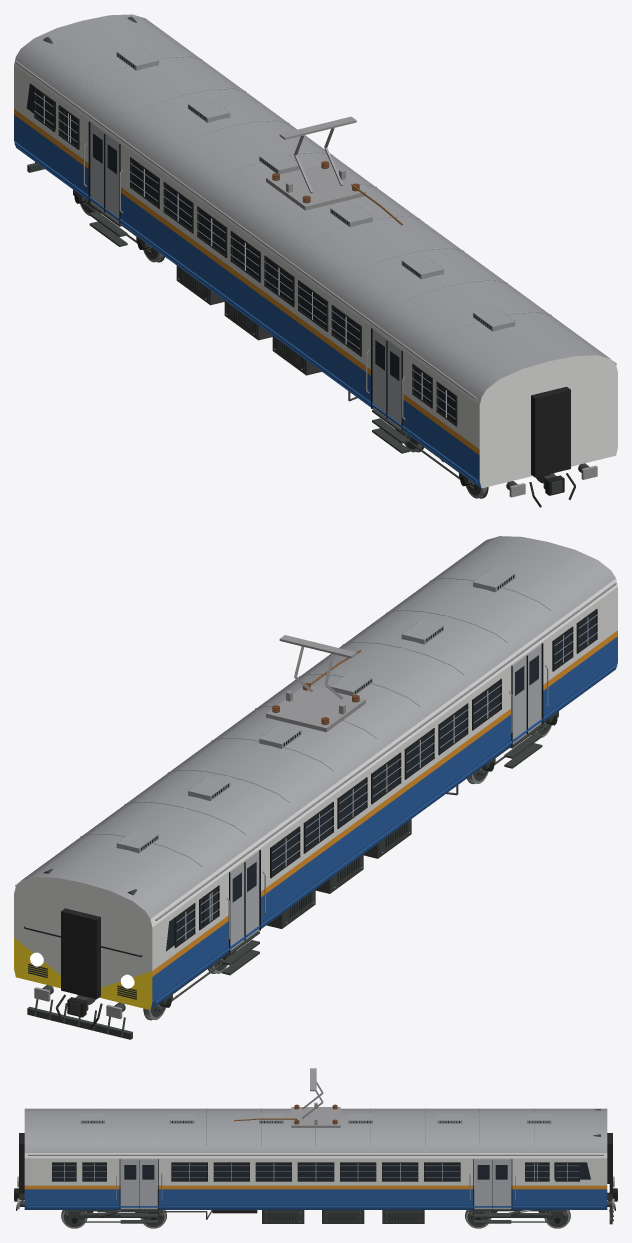
Rendered from memu.glb.
3 views of the same model, one above another, from view 1: azimuth 30°, elevation 25°; view 2: azimuth 150°, elevation 25°; view 3: azimuth 270°, elevation 25° (orthographic). The views are drawn at different scales.
Visible parts, largest first — view 1: CabCar_Body, CabCar_Panels, CabCar_RoofKit, MotorCar_Pantograph, CabCar_GangwayB, MotorCar_Body, CabCar_ExteriorDetails_Rubber, CabCar_ExteriorDetails_Roof, CabCar_ExteriorDetails_Frame, CabCar_ExteriorDetails_Blue, CabCar_UnderfloorDetails_Frame, CabCar_ExteriorDetails_Steel (+2 smaller); view 2: CabCar_Body, MotorCar_Body, CabCar_Panels, CabCar_RoofKit, MotorCar_Pantograph, MotorCar_GangwayF, CabCar_ExteriorDetails_Rubber, CabCar_ExteriorDetails_Roof, CabCar_ExteriorDetails_Frame, CabCar_ExteriorDetails_Blue, CabCar_UnderfloorDetails_Frame, CabCar_ExteriorDetails_Steel (+3 smaller); view 3: CabCar_Body, CabCar_Panels, CabCar_UnderfloorDetails_Frame, CabCar_ExteriorDetails_Rubber, CabCar_RoofKit, MotorCar_Body, CabCar_ExteriorDetails_Roof, CabCar_ExteriorDetails_Steel, MotorCar_Pantograph, CabCar_ExteriorDetails_Blue, CabCar_ExteriorDetails_Frame, CabCar_UnderfloorDetails_Under (+6 smaller).
Boxes of the visible parts, bbox=[...] form: CabCar_Body: bbox=[14, 21, 617, 488]; CabCar_Panels: bbox=[26, 83, 455, 429]; CabCar_RoofKit: bbox=[116, 46, 515, 331]; MotorCar_Pantograph: bbox=[266, 116, 365, 210]; CabCar_GangwayB: bbox=[531, 386, 570, 477]; MotorCar_Body: bbox=[14, 14, 173, 106]; CabCar_ExteriorDetails_Rubber: bbox=[62, 108, 457, 426]; CabCar_ExteriorDetails_Roof: bbox=[15, 56, 616, 399]; CabCar_ExteriorDetails_Frame: bbox=[27, 17, 409, 453]; CabCar_ExteriorDetails_Blue: bbox=[14, 142, 476, 482]; CabCar_UnderfloorDetails_Frame: bbox=[177, 266, 589, 494]; CabCar_ExteriorDetails_Steel: bbox=[62, 113, 455, 419]; CabCar_Body: bbox=[14, 536, 617, 1009]; MotorCar_Body: bbox=[14, 854, 182, 987]; CabCar_Panels: bbox=[166, 612, 595, 951]; CabCar_RoofKit: bbox=[116, 568, 515, 853]; MotorCar_Pantograph: bbox=[266, 635, 365, 732]; MotorCar_GangwayF: bbox=[61, 908, 100, 999]; CabCar_ExteriorDetails_Rubber: bbox=[24, 609, 597, 957]; CabCar_ExteriorDetails_Roof: bbox=[15, 577, 616, 920]; CabCar_ExteriorDetails_Frame: bbox=[27, 724, 542, 1039]; CabCar_ExteriorDetails_Blue: bbox=[155, 664, 617, 1003]; CabCar_UnderfloorDetails_Frame: bbox=[42, 785, 458, 1015]; CabCar_ExteriorDetails_Steel: bbox=[205, 614, 597, 941]; CabCar_Body: bbox=[24, 1108, 607, 1209]; CabCar_Panels: bbox=[52, 1159, 590, 1208]; CabCar_UnderfloorDetails_Frame: bbox=[14, 1190, 617, 1222]; CabCar_ExteriorDetails_Rubber: bbox=[52, 1162, 607, 1181]; CabCar_RoofKit: bbox=[80, 1114, 551, 1123]; MotorCar_Body: bbox=[569, 1108, 607, 1185]; CabCar_ExteriorDetails_Roof: bbox=[28, 1108, 603, 1155]; CabCar_ExteriorDetails_Steel: bbox=[52, 1165, 543, 1201]; MotorCar_Pantograph: bbox=[291, 1068, 340, 1127]; CabCar_ExteriorDetails_Blue: bbox=[27, 1206, 604, 1207]; CabCar_ExteriorDetails_Frame: bbox=[120, 1109, 613, 1224]; CabCar_UnderfloorDetails_Under: bbox=[212, 1210, 424, 1223].
Bounding box in the file's own units: 3.87 × 5.63 × 22.11.
